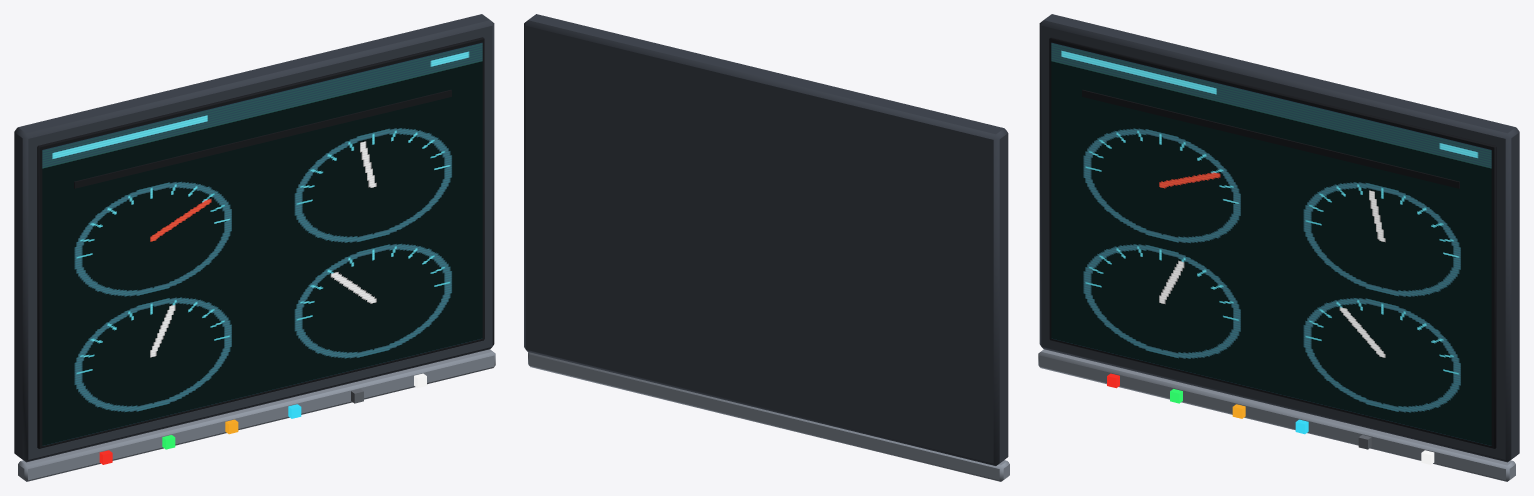
File: display_status_board.glb
The picture shows the model from 3 angles, left to right: view 1: azimuth 30°, elevation 25°; view 2: azimuth 150°, elevation 25°; view 3: azimuth 330°, elevation 25°; orthographic projection.
Visible parts, largest first — view 1: display_status_board; view 2: display_status_board; view 3: display_status_board.
Part boxes in pixels (box(x1,y1,x2,y2)): display_status_board: box(14, 14, 495, 481); display_status_board: box(524, 14, 1009, 481); display_status_board: box(1038, 14, 1519, 481).
Bounding box in the file's own units: 1.5 × 1.05 × 0.095.
Materials: 10 (1 with a texture image).
